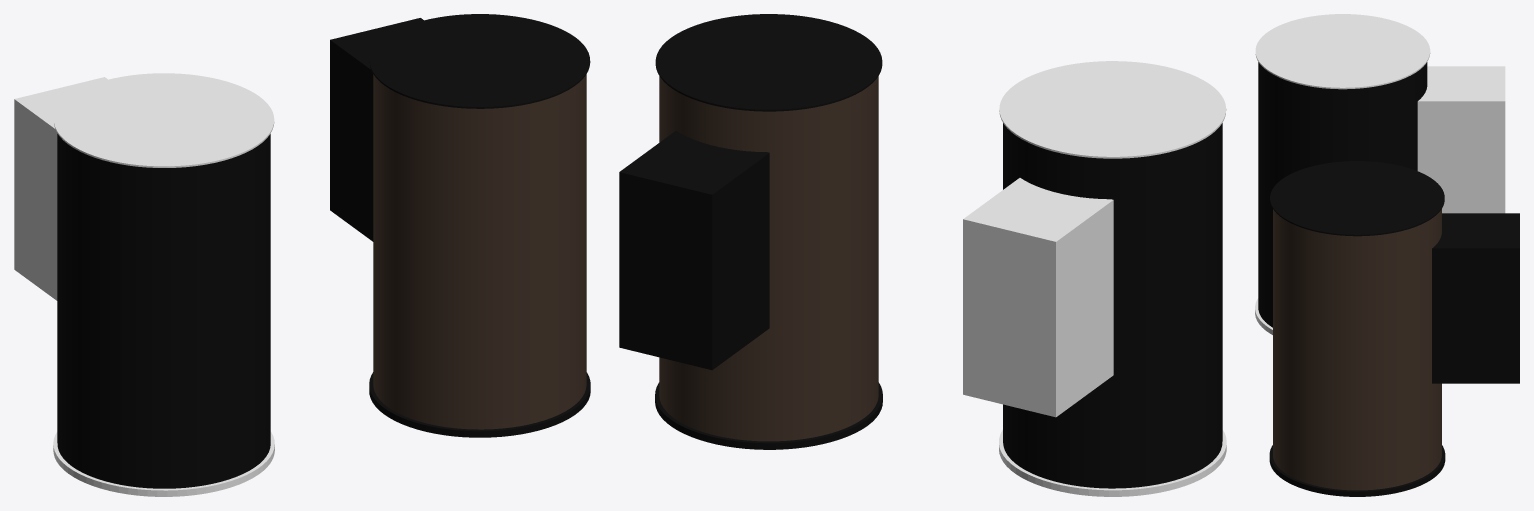
Rendered from Wall Lamp.fbx.
The picture shows the model from 3 angles, left to right: view 1: azimuth 30°, elevation 25°; view 2: azimuth 150°, elevation 25°; view 3: azimuth 270°, elevation 25°; orthographic projection. The views are drawn at different scales.
Parts seen in each view (by area): view 1: Group057, Group065, Box2131660750, Box2131660758; view 2: Group065, Group057, Box2131660750, Box2131660758; view 3: Group057, Group065, Box2131660750, Box2131660758.
Boxes of the visible parts, x1,y1,x2,y2 form: Group057: (369,14,590,437); Group065: (53,73,274,496); Box2131660750: (330,18,423,241); Box2131660758: (14,77,107,300); Group065: (999,61,1226,496); Group057: (655,14,882,449); Box2131660750: (619,130,769,370); Box2131660758: (963,178,1113,417); Group057: (1269,161,1445,496); Group065: (1255,14,1430,334); Box2131660750: (1432,213,1519,383); Box2131660758: (1417,66,1505,213).
Bounding box in the file's own units: 336 × 222 × 188.
